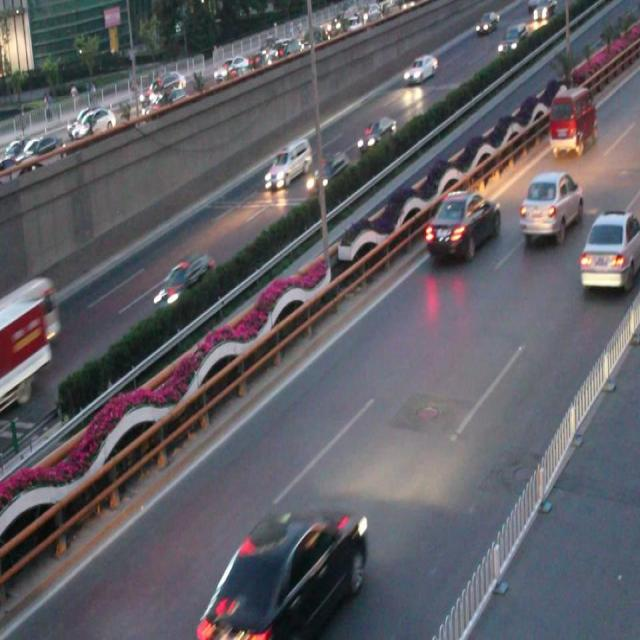bus: (1, 299, 51, 418)
car: (199, 503, 367, 640), (426, 187, 501, 261), (578, 208, 640, 290), (519, 172, 582, 242), (152, 254, 216, 308), (305, 152, 350, 195), (356, 114, 398, 154), (404, 52, 437, 83)
truck: (1, 276, 61, 349), (546, 91, 594, 159), (263, 140, 311, 190)
